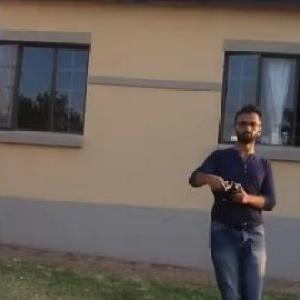follow: (184, 93, 284, 299)
